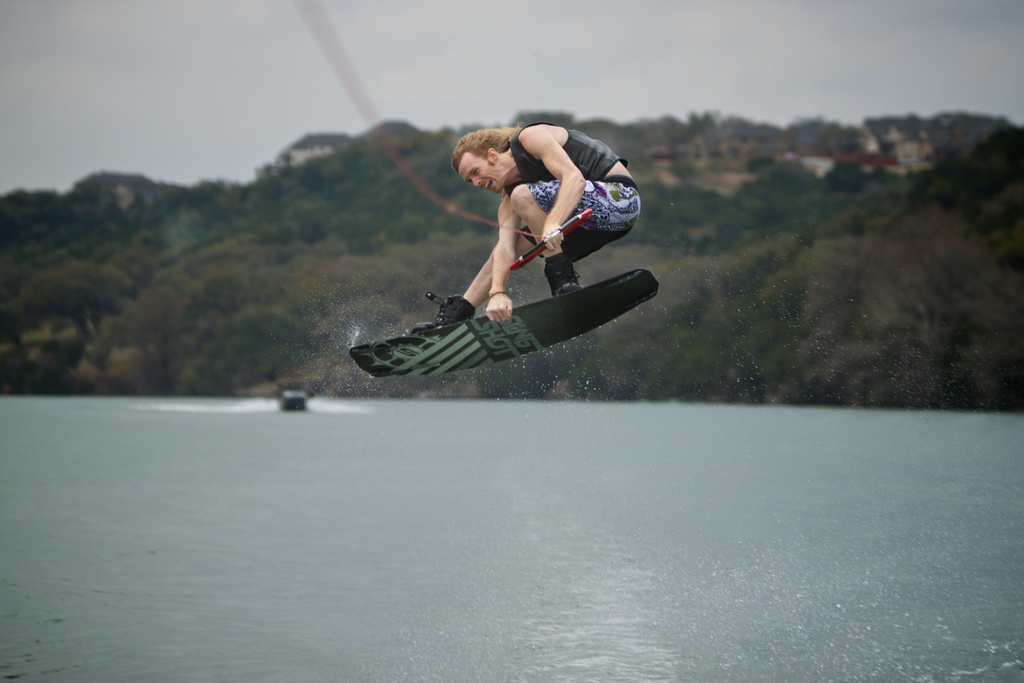Person: (409, 121, 640, 333)
